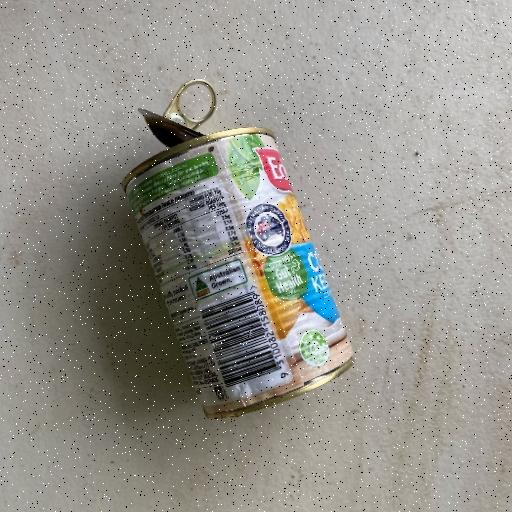Metal: (120, 79, 356, 421)
